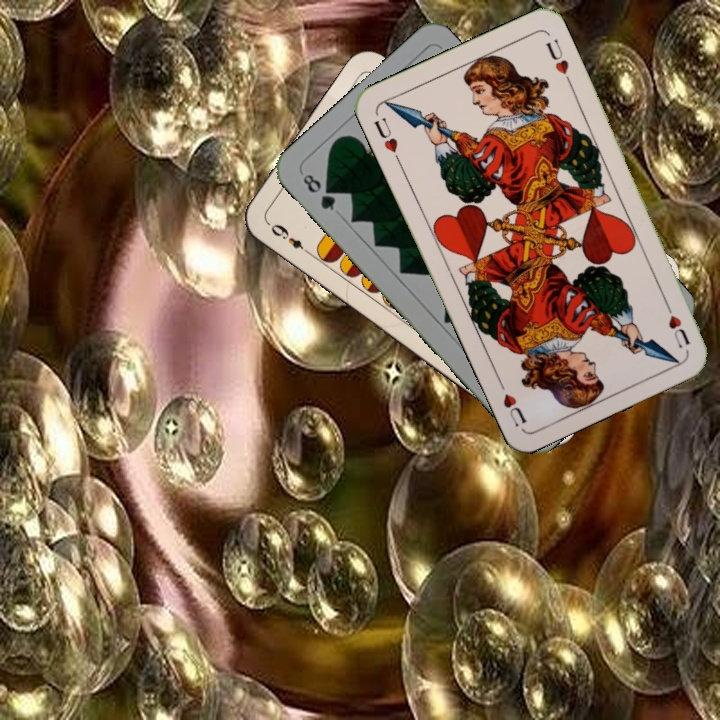E9: (266, 219, 314, 259)
G8: (298, 169, 339, 214)
HU: (660, 296, 692, 351), (370, 113, 403, 165)
